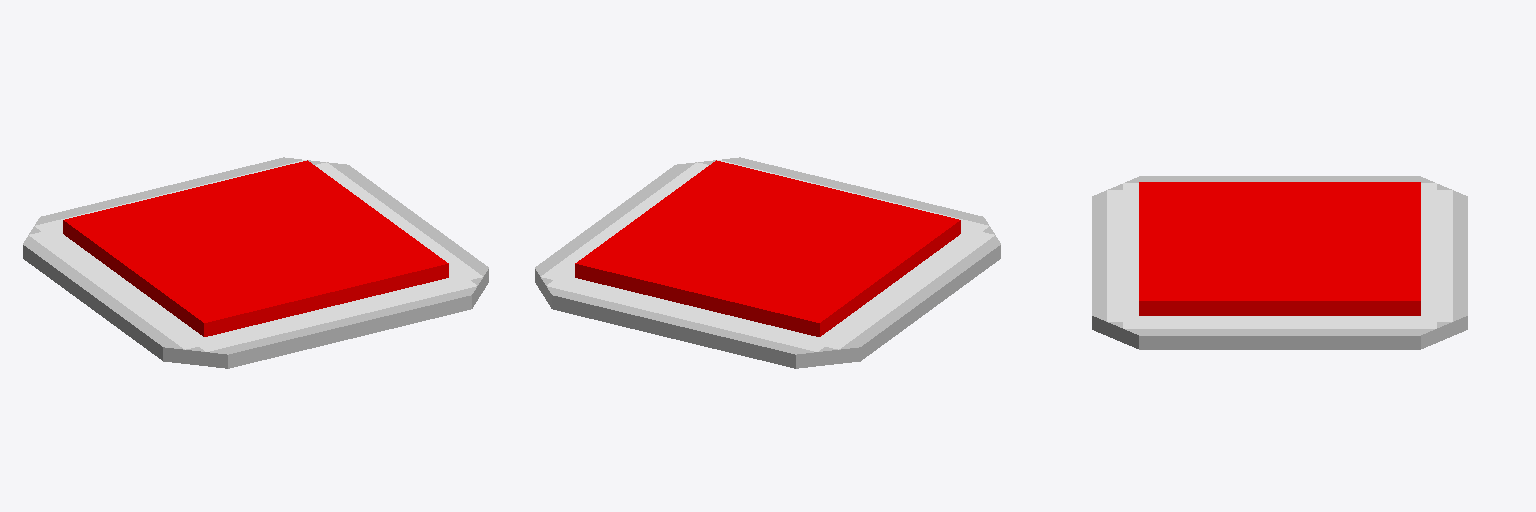
The picture shows the model from 3 angles: view 1: azimuth 30°, elevation 25°; view 2: azimuth 150°, elevation 25°; view 3: azimuth 270°, elevation 25°; orthographic projection.
Visible parts, largest first — view 1: cube, cylinder; view 2: cube, cylinder; view 3: cube, cylinder.
Boxes of the visible parts, box(x1,y1,x2,y2) form: cube: box(63, 160, 448, 336); cylinder: box(23, 157, 488, 368); cube: box(575, 160, 960, 336); cylinder: box(535, 157, 1000, 368); cube: box(1139, 182, 1420, 315); cylinder: box(1092, 176, 1467, 349).
Size of the model in its own units: 1.5 by 0.125 by 1.5.
1 materials, 1 textured.